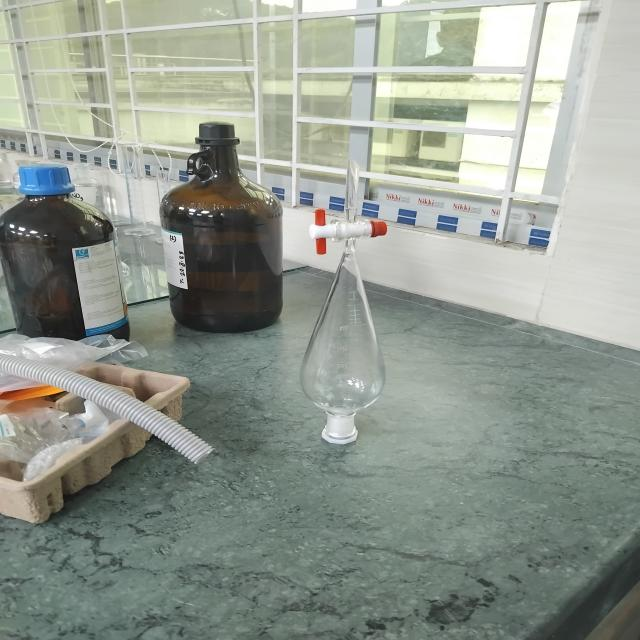Separating_Funnel: (282, 144, 420, 474)
